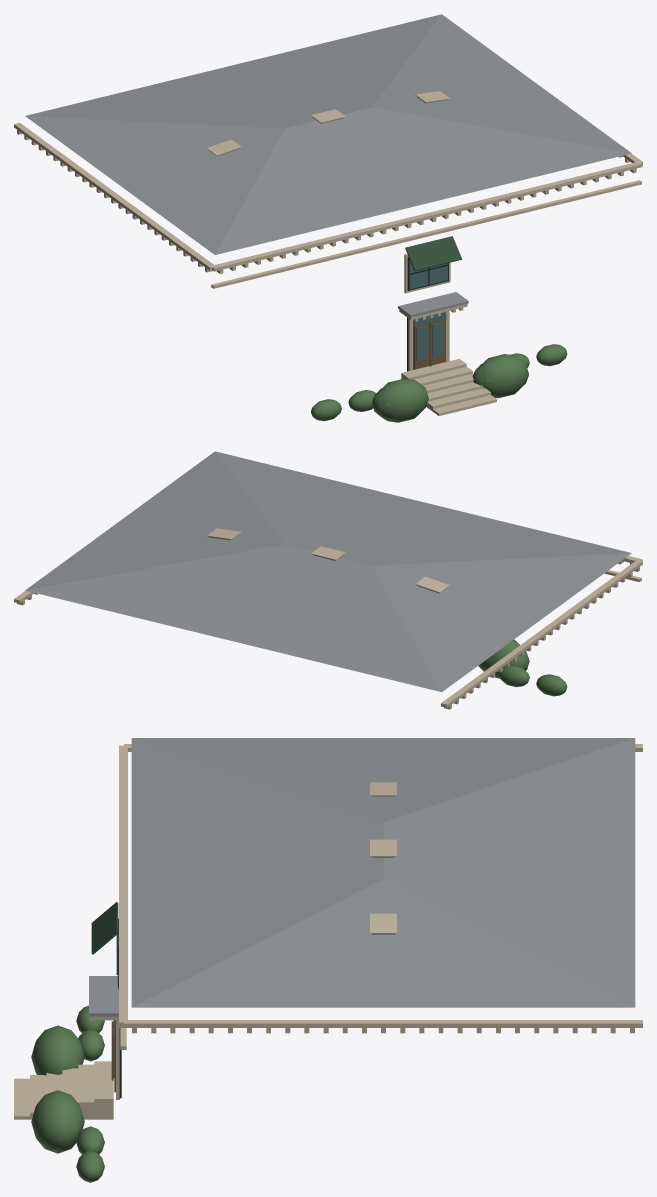
File: johnson-rear-window-band-overlay-2026-11-04.glb
3 renders of one model, top to bottom at view 1: azimuth 30°, elevation 25°; view 2: azimuth 150°, elevation 25°; view 3: azimuth 270°, elevation 25°, orthographic. The views are drawn at different scales.
Parts seen in each view (by area): view 1: johnson-part-0, johnson-part-1; view 2: johnson-part-0, johnson-part-1; view 3: johnson-part-0, johnson-part-1.
Boxes of the visible parts, left/top/right/bottom form: johnson-part-0: left=14, top=14, right=642, bottom=415; johnson-part-1: left=311, top=344, right=567, bottom=422; johnson-part-0: left=14, top=451, right=642, bottom=709; johnson-part-1: left=478, top=639, right=567, bottom=696; johnson-part-0: left=14, top=738, right=642, bottom=1119; johnson-part-1: left=31, top=1005, right=104, bottom=1182.
Bounding box in the file's own units: 34.58 × 15.48 × 32.85.
